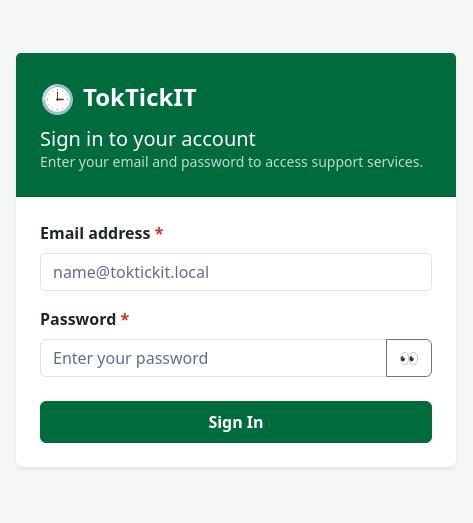
Test: UI-01: Login Screen Component Tests › validates empty email and displays inline error banner
The width and height of the screenshot is (473, 523).
Click the button "Sign In": point(236, 422) x1=40 y1=400 x2=432 y2=442
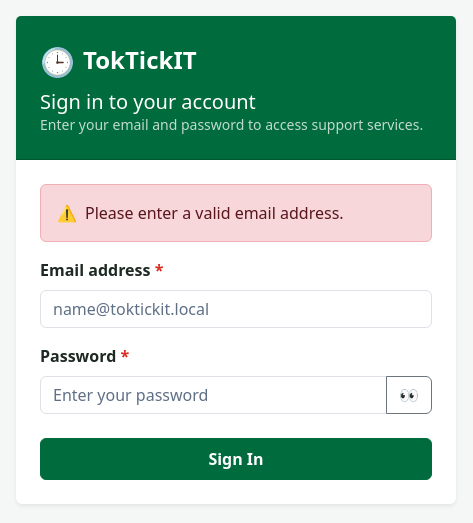
Expected: the text "Please enter a valid email address." is shown, x1=85 y1=200 x2=344 y2=224
